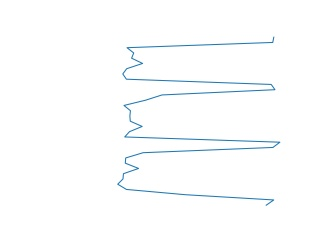majorRiverChannelBar: (116, 36, 283, 207)
